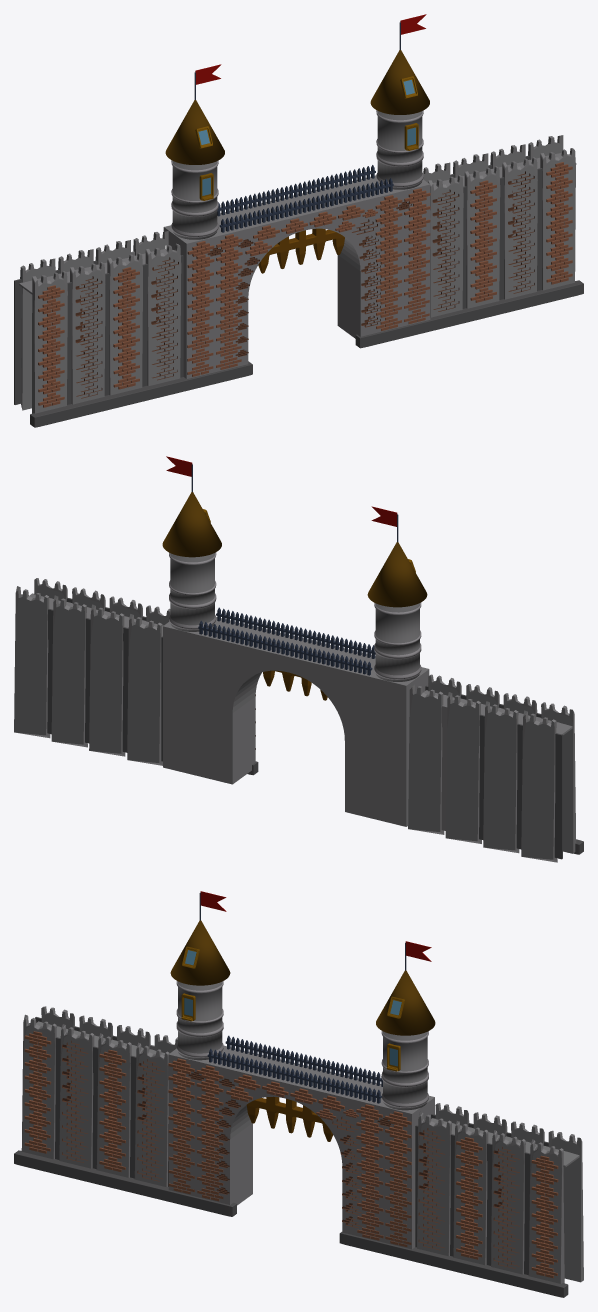
File: wall.fbx
3 renders of one model, top to bottom at view 1: azimuth 30°, elevation 25°; view 2: azimuth 150°, elevation 25°; view 3: azimuth 330°, elevation 25°, orthographic.
Visible parts, largest first — view 1: Cube.181; view 2: Cube.181; view 3: Cube.181.
Part boxes in pixels (left/top/right/bottom): Cube.181: left=14, top=14, right=583, bottom=427; Cube.181: left=14, top=456, right=583, bottom=862; Cube.181: left=14, top=891, right=583, bottom=1297.
Size of the model in its own units: 4799 by 2553 by 450.
